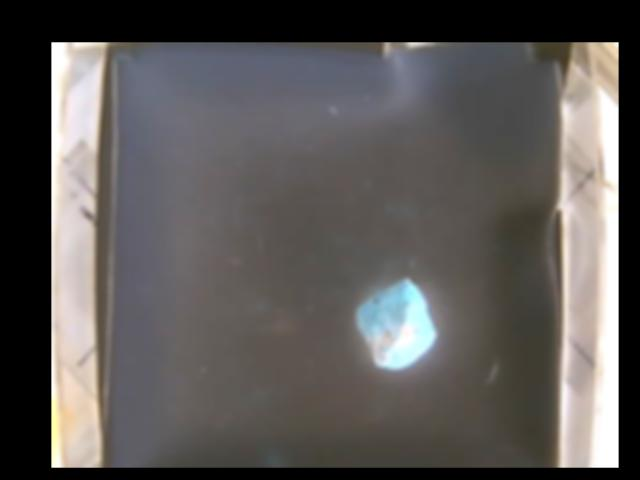Brisk: (357, 277, 437, 369)
